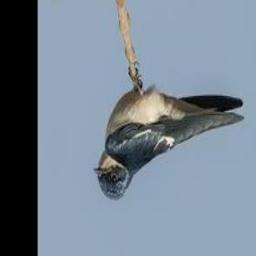Swallow: (94, 75, 244, 201)
